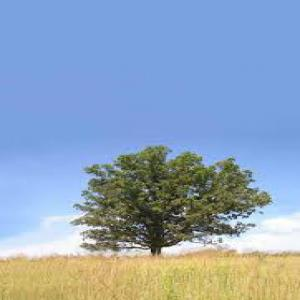Tree: (70, 142, 268, 262)
